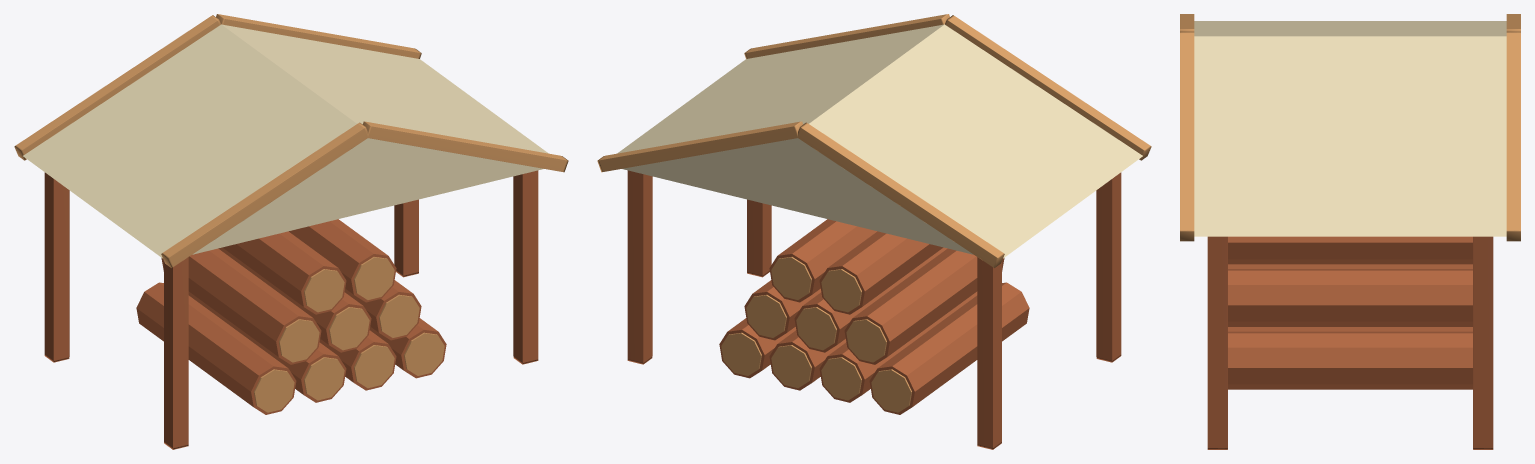
Rendered from log_shed.glb.
The picture shows the model from 3 angles, left to right: view 1: azimuth 30°, elevation 25°; view 2: azimuth 150°, elevation 25°; view 3: azimuth 270°, elevation 25°; orthographic projection. The views are drawn at different scales.
Parts seen in each view (by area): view 1: Pitched roof.007, Stacked log.004, Stacked log, Shed post.002, Shed post.001, Shed post, Roof trim.028, Stacked log.007, Roof trim.029, Roof trim.030, Stacked log.008, Roof trim.031 (+15 smaller); view 2: Pitched roof.007, Stacked log.004, Stacked log, Shed post.003, Shed post, Shed post.001, Roof trim.030, Stacked log.007, Roof trim.031, Roof trim.028, Stacked log.008, Roof trim.029 (+15 smaller); view 3: Pitched roof.007, Stacked log.003, Stacked log.006, Stacked log.008, Shed post.002, Shed post.003, Roof trim.029, Roof trim.031, Stacked log.002, Stacked log.005.
Part boxes in pixels (<box>): Pitched roof.007: <box>23,24,548,258</box>; Stacked log.004: <box>161,248,321,364</box>; Stacked log: <box>136,282,296,414</box>; Shed post.002: <box>513,170,538,364</box>; Shed post.001: <box>44,172,69,362</box>; Shed post: <box>164,257,188,449</box>; Roof trim.028: <box>161,122,367,267</box>; Stacked log.007: <box>222,231,346,314</box>; Roof trim.029: <box>362,121,568,172</box>; Roof trim.030: <box>14,15,220,160</box>; Stacked log.008: <box>289,219,396,302</box>; Roof trim.031: <box>216,14,421,58</box>; Pitched roof.007: <box>617,24,1142,258</box>; Stacked log.004: <box>844,248,1004,364</box>; Stacked log: <box>869,282,1029,414</box>; Shed post.003: <box>627,170,652,364</box>; Shed post: <box>1096,172,1121,362</box>; Shed post.001: <box>977,257,1001,449</box>; Roof trim.030: <box>798,122,1004,267</box>; Stacked log.007: <box>819,231,943,314</box>; Roof trim.031: <box>597,121,803,172</box>; Roof trim.028: <box>945,15,1151,160</box>; Stacked log.008: <box>769,219,876,302</box>; Roof trim.029: <box>744,14,949,58</box>; Pitched roof.007: <box>1194,21,1506,236</box>; Stacked log.003: <box>1228,331,1472,389</box>; Stacked log.006: <box>1228,269,1472,326</box>; Stacked log.008: <box>1228,236,1472,264</box>; Shed post.002: <box>1207,236,1227,449</box>; Shed post.003: <box>1473,236,1493,449</box>; Roof trim.029: <box>1180,31,1194,241</box>; Roof trim.031: <box>1506,31,1520,241</box>; Stacked log.002: <box>1228,327,1472,331</box>; Stacked log.005: <box>1228,264,1472,268</box>.
Bounding box in the file's own units: 5.05 × 3.46 × 3.34.
